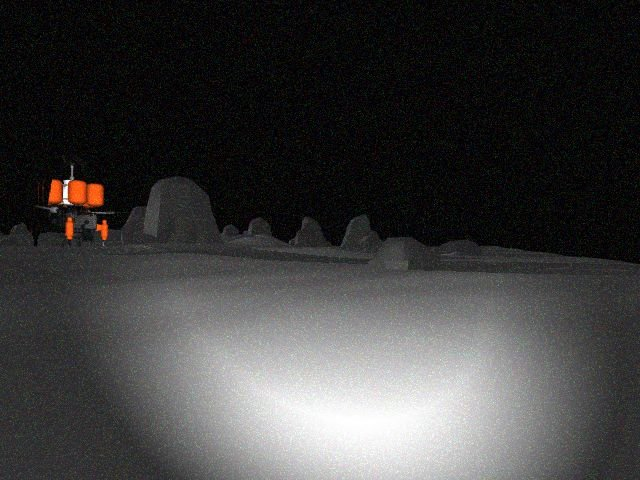homebase: (6, 152, 124, 251)
